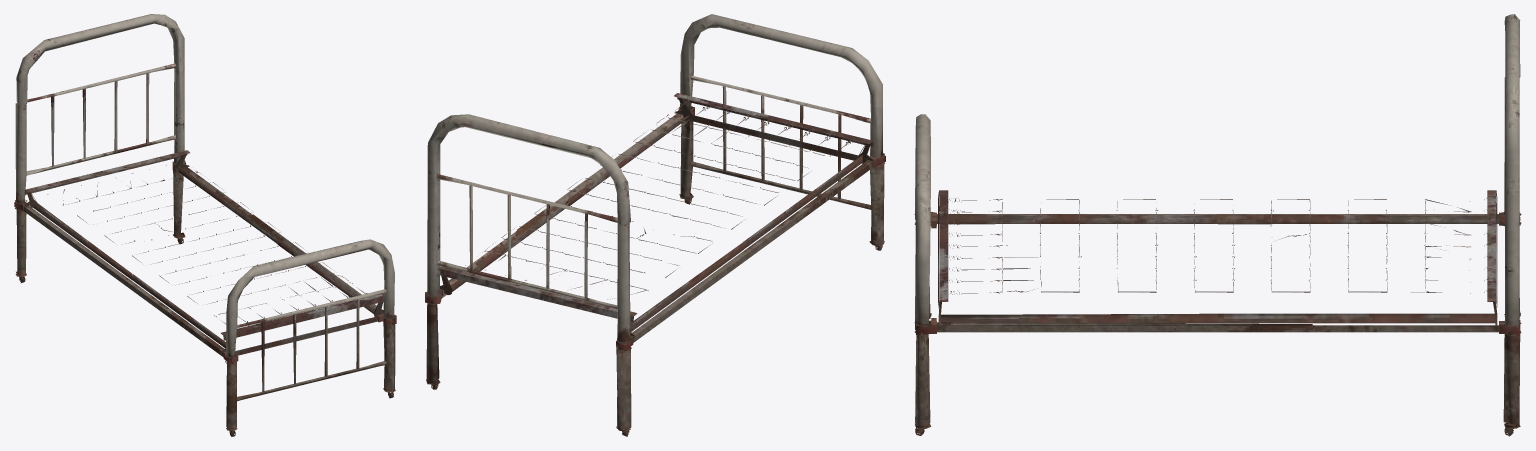
The model's file is old_bed_frame.glb.
3 renders of one model, left to right at view 1: azimuth 30°, elevation 25°; view 2: azimuth 150°, elevation 25°; view 3: azimuth 270°, elevation 25°, orthographic. The views are drawn at different scales.
Parts seen in each view (by area): view 1: old_bed_frame; view 2: old_bed_frame; view 3: old_bed_frame.
Boxes of the visible parts, box(x1,y1,x2,y2) form: old_bed_frame: box(14, 14, 396, 436); old_bed_frame: box(425, 14, 885, 436); old_bed_frame: box(914, 14, 1521, 436).
Bounding box in the file's own units: 0.9116 × 1.2 × 2.
1 material, 1 textured.
